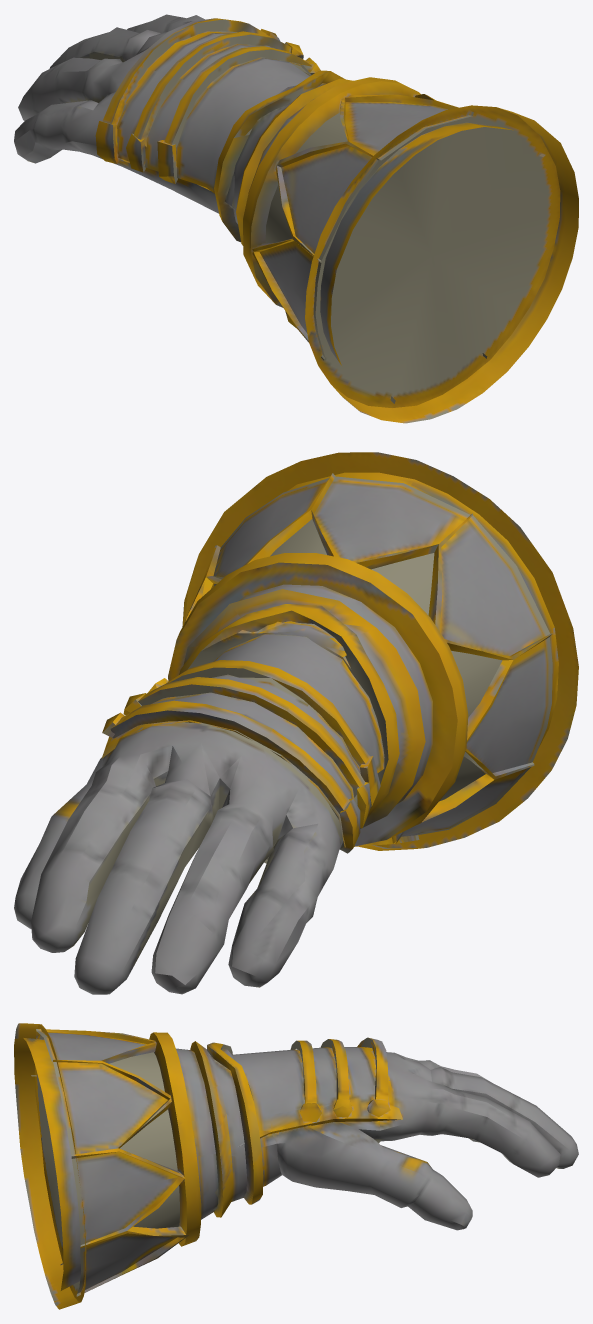
Rendered from item_mm9_10140.glb.
3 renders of one model, top to bottom at view 1: azimuth 30°, elevation 25°; view 2: azimuth 150°, elevation 25°; view 3: azimuth 270°, elevation 25°, orthographic. The views are drawn at different scales.
Visible parts, largest first — view 1: d10140; view 2: d10140; view 3: d10140.
Part boxes in pixels (left/top/right/bottom): d10140: left=14, top=14, right=578, bottom=423; d10140: left=14, top=452, right=578, bottom=994; d10140: left=14, top=1023, right=578, bottom=1309.
Bounding box in the file's own units: 0.5891 × 0.5374 × 1.05.
Materials: 1 (1 with a texture image).
